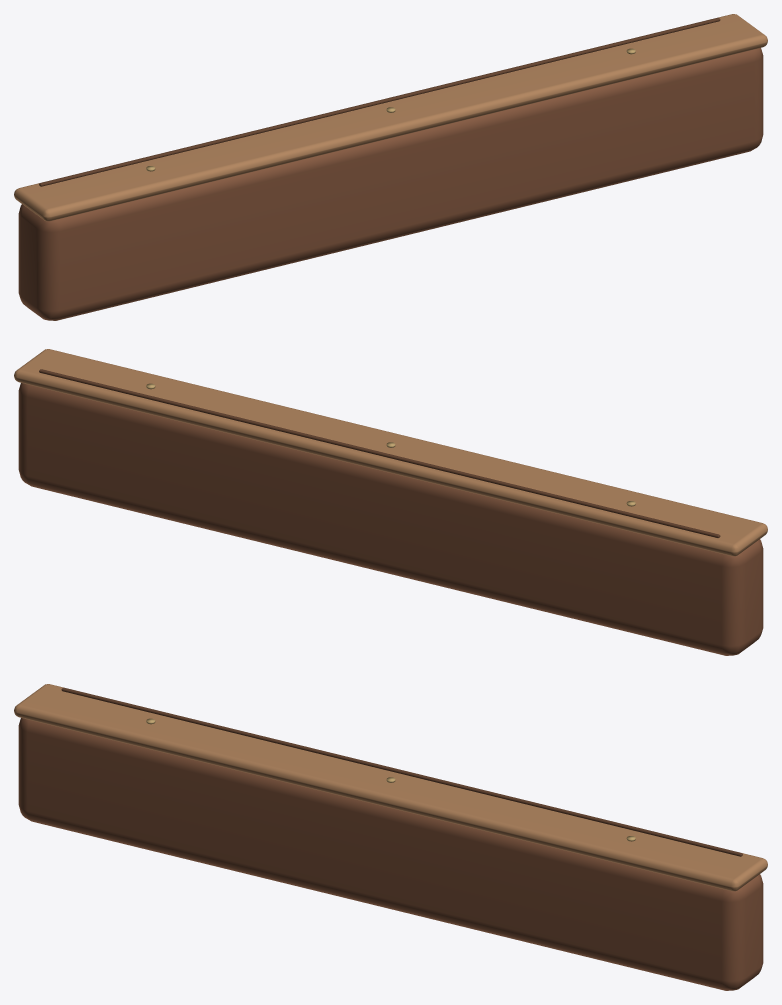
The model's file is PP_Kit_RailEndCap.fbx.
3 renders of one model, top to bottom at view 1: azimuth 30°, elevation 25°; view 2: azimuth 150°, elevation 25°; view 3: azimuth 330°, elevation 25°, orthographic.
Visible parts, largest first — view 1: KIT_RailEndCap_356; view 2: KIT_RailEndCap_356; view 3: KIT_RailEndCap_356.
Boxes of the visible parts, x1,y1,x2,y2 form: KIT_RailEndCap_356: [14, 14, 767, 320]; KIT_RailEndCap_356: [14, 349, 767, 655]; KIT_RailEndCap_356: [14, 684, 767, 990].
Size of the model in its own units: 356 by 56.6 by 28.8.
